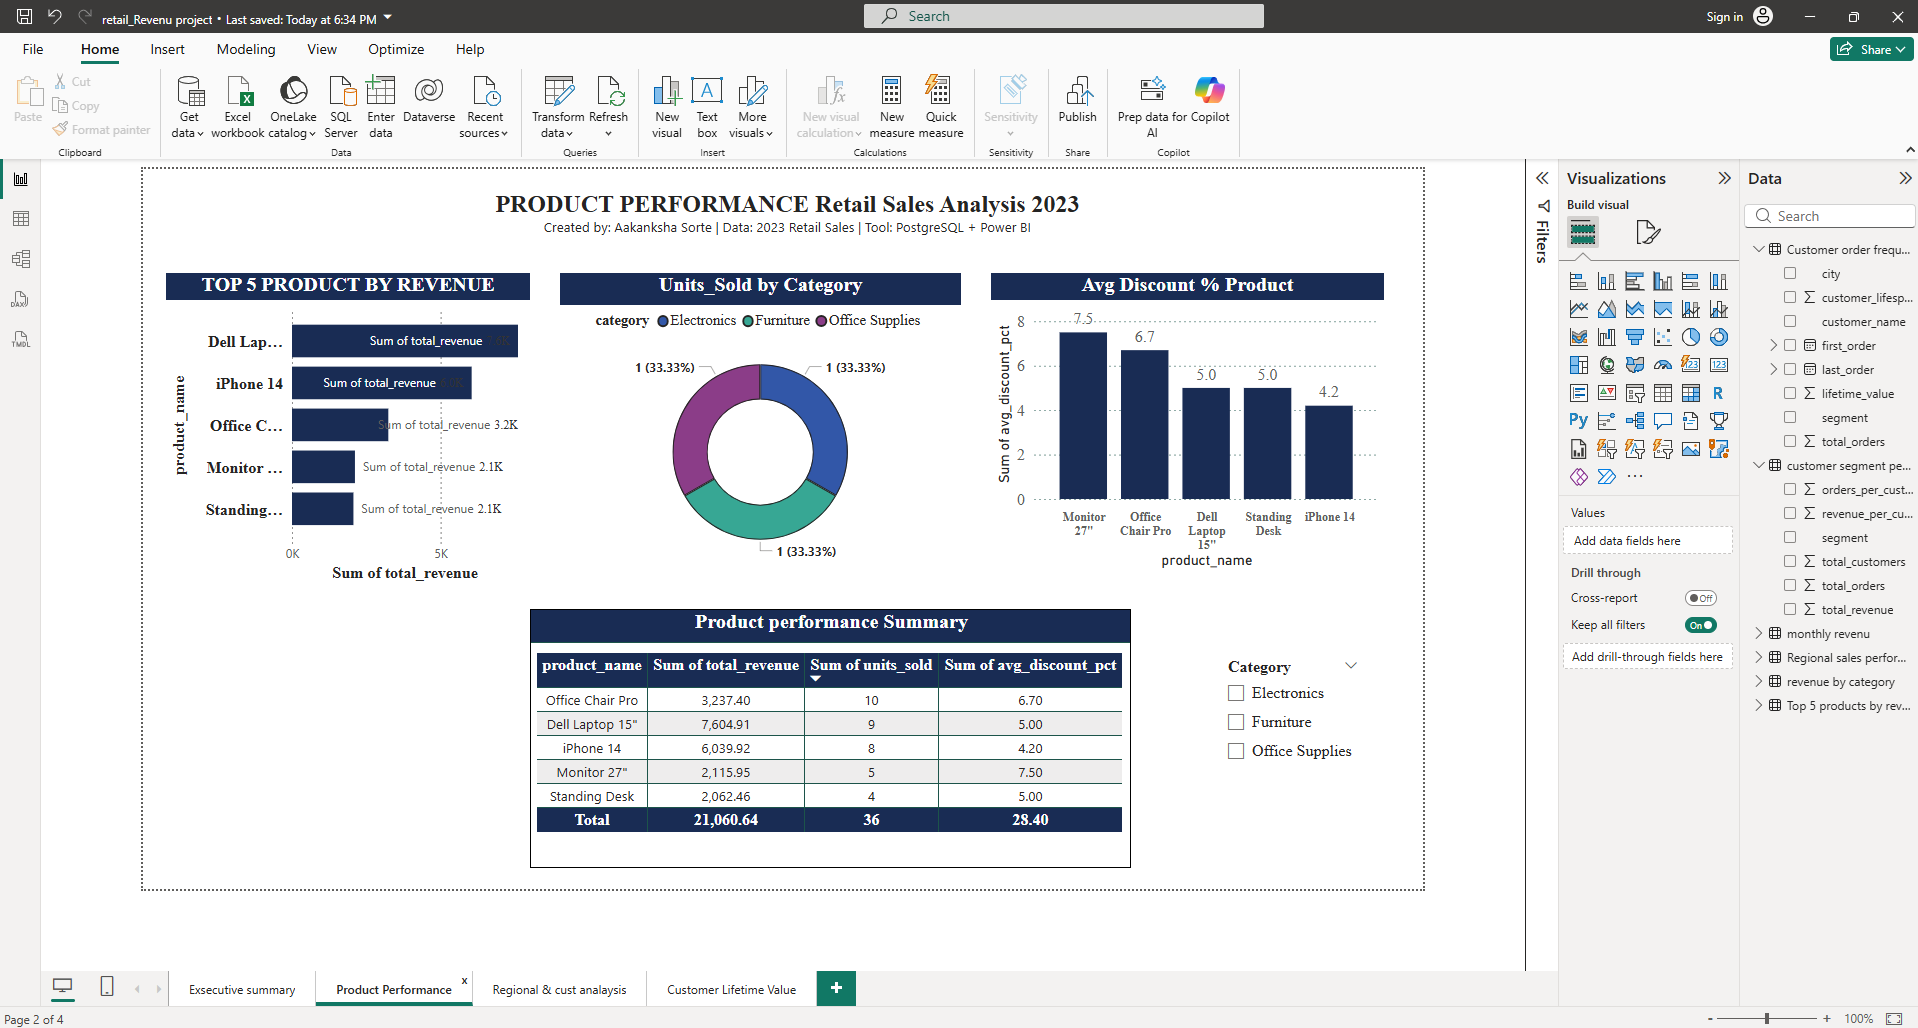

What the dashboard file says about the page in this screenshot:
{"tool":"powerbi","page":{"name":"Product Performance ","canvas":[1280,720],"ordinal":1},"visuals":[{"type":"clusteredBarChart","title":"TOP 5 PRODUCT BY REVENUE","fields":{"Category":["Top 5 products by revenue.product_name"],"Y":["Sum(Top 5 products by revenue.total_revenue)"]},"box":[23.2,103.7,363.4,313.4],"z":0},{"type":"textbox","box":[8.6,0,1271.7,103.9],"z":1000},{"type":"donutChart","title":"Units_Sold by Category","fields":{"Category":["revenue by category.category"],"Y":["CountNonNull(revenue by category.units_sold)"]},"box":[417.1,103.7,401.2,300],"z":2000},{"type":"clusteredColumnChart","title":"Avg Discount % Product","fields":{"Category":["Top 5 products by revenue.product_name"],"Y":["Sum(Top 5 products by revenue.avg_discount_pct)"]},"box":[847.6,103.7,393.9,300],"z":3000},{"type":"tableEx","title":"Product performance Summary","fields":{"Values":["Top 5 products by revenue.product_name","Sum(Top 5 products by revenue.total_revenue)","Sum(Top 5 products by revenue.units_sold)","Sum(Top 5 products by revenue.avg_discount_pct)"]},"box":[386.6,440.2,601.2,258.5],"z":4000},{"type":"slicer","fields":{"Values":["revenue by category.category"]},"box":[1071.9,483.6,154.9,127.2],"z":5000}]}

Visuals, with their boxes on the page's 1280x720 design canvas (x1, y1, x2, y2). These are canvas units, not pixel positions in the 1918x1028 screenshot, which may show the page scaled, cropped or inside an application window:
"TOP 5 PRODUCT BY REVENUE" clusteredBarChart: [23,104,387,417]
textbox: [9,0,1280,104]
"Units_Sold by Category" donutChart: [417,104,818,404]
"Avg Discount % Product" clusteredColumnChart: [848,104,1242,404]
"Product performance Summary" tableEx: [387,440,988,699]
slicer - revenue by category.category: [1072,484,1227,611]
